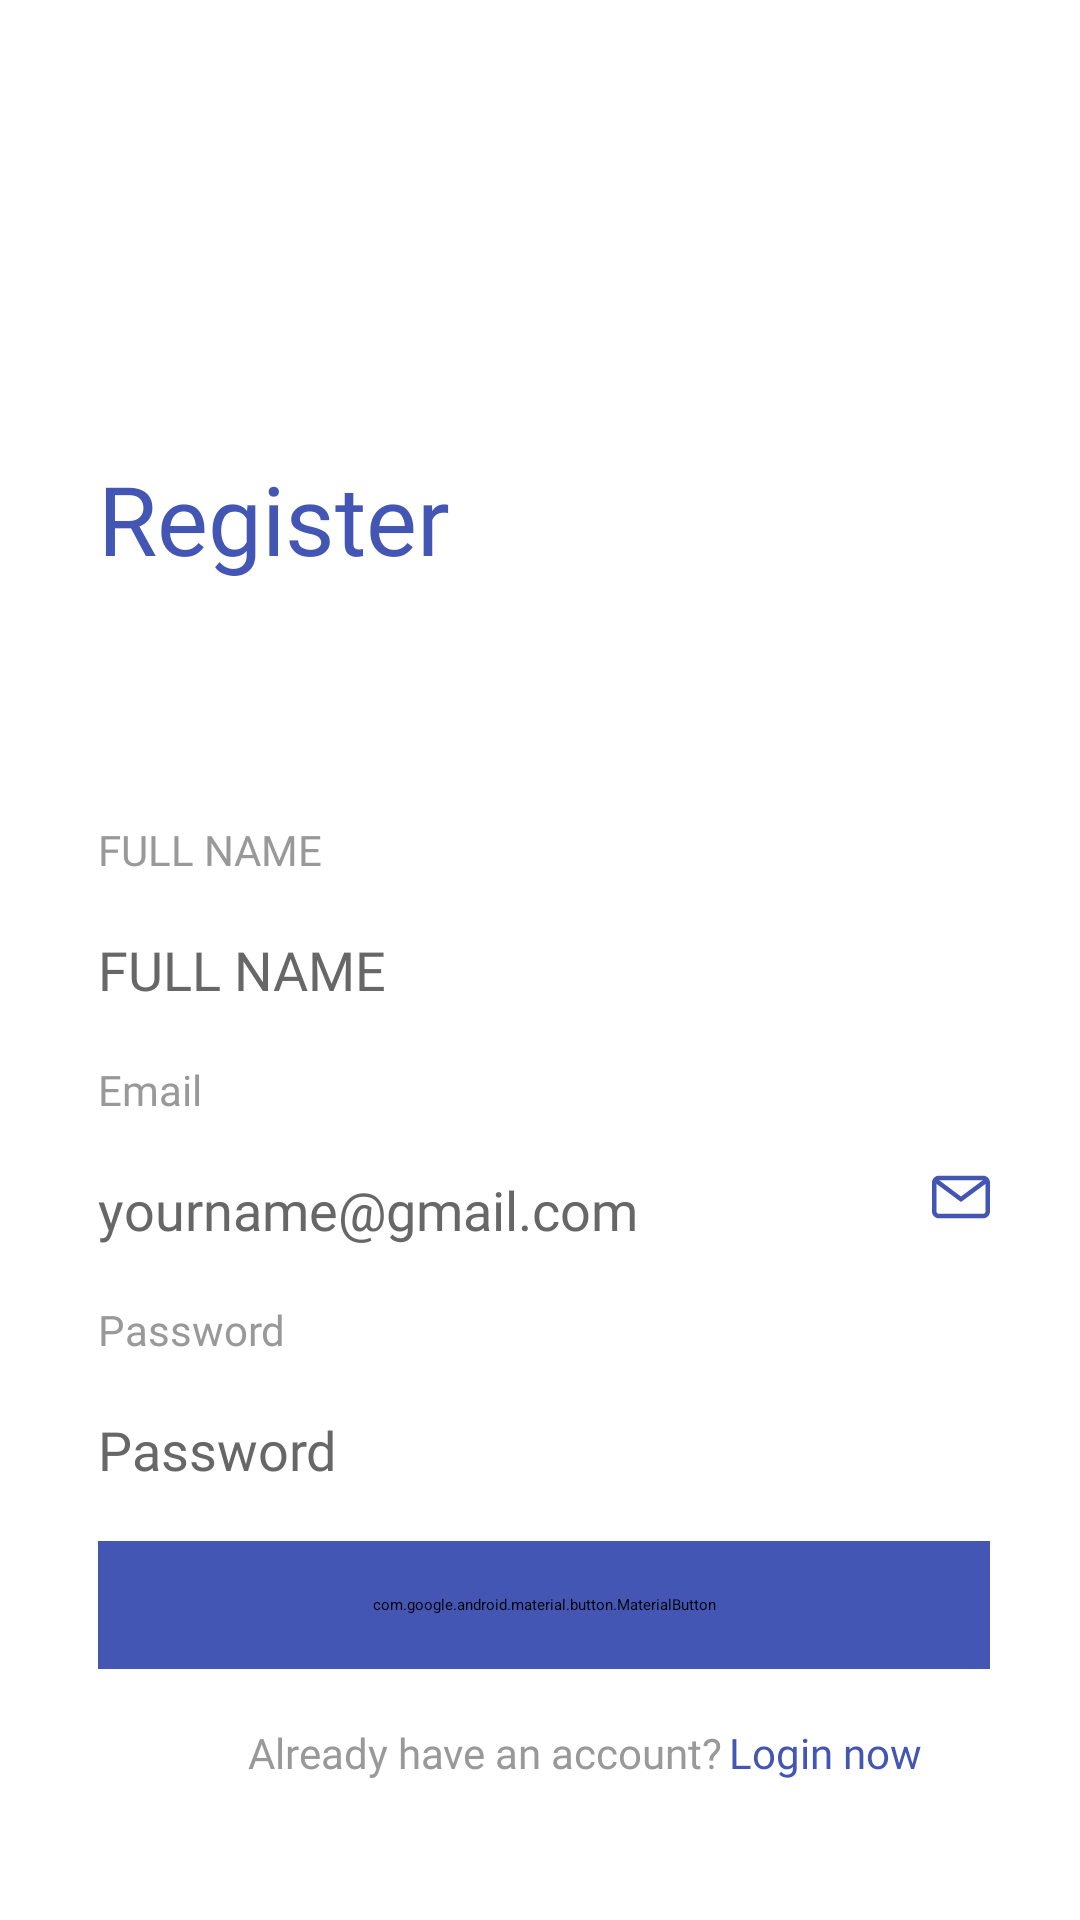

Locate icon controls on the screen. Image size 1080px×1920px, boxes as (x1, y1, x2, y2).
mail login: (932, 1175, 990, 1219)
